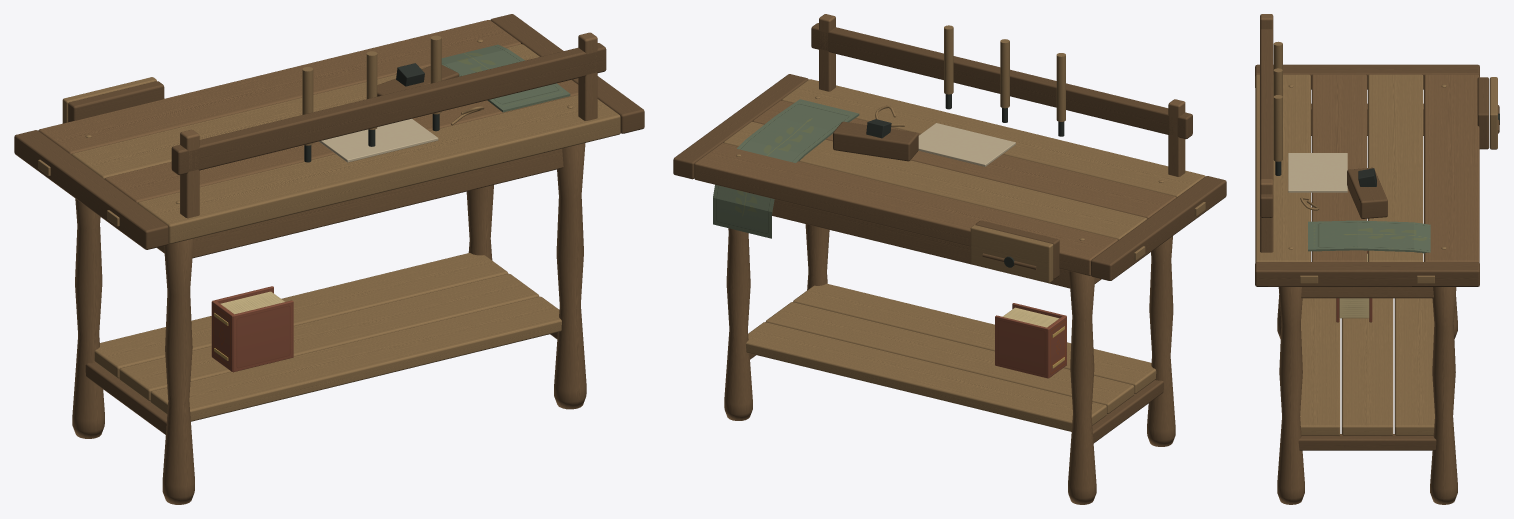
File: estacion.glb
3 renders of one model, left to right at view 1: azimuth 30°, elevation 25°; view 2: azimuth 150°, elevation 25°; view 3: azimuth 270°, elevation 25°, orthographic. The views are drawn at different scales.
Visible parts, largest first — view 1: estacion; view 2: estacion; view 3: estacion.
Part boxes in pixels (x1,y1,x2,y2): estacion: (14,14,644,504); estacion: (673,14,1226,504); estacion: (1255,14,1499,504).
Bounding box in the file's own units: 1.49 × 1.15 × 0.74.
1 material, 1 textured.
